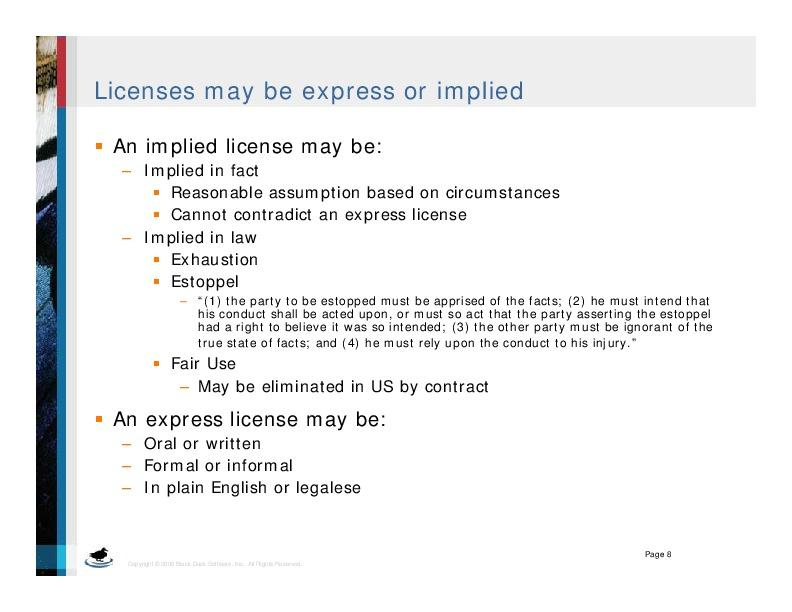paragraph: (90, 128, 740, 518)
title: (85, 70, 537, 106)
